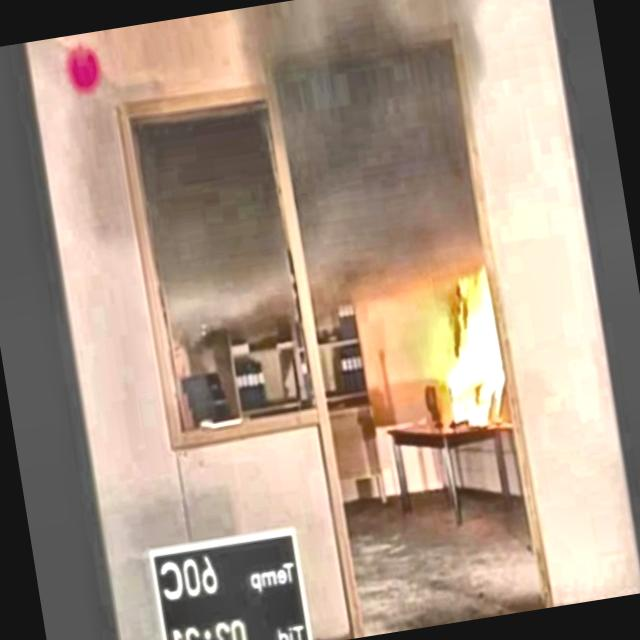fire: (406, 269, 513, 446)
